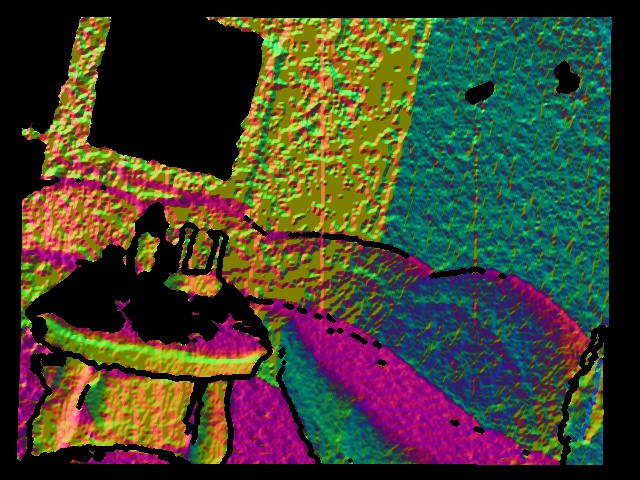station: (167, 225, 227, 301)
